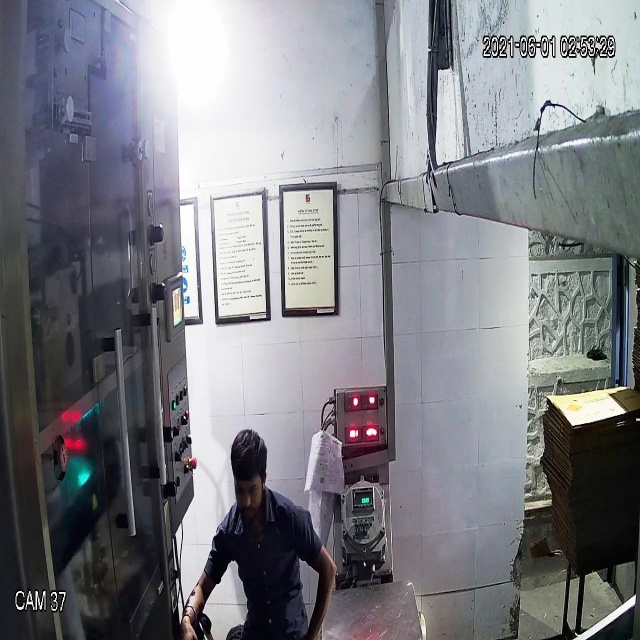Sin_gafas: (231, 473, 266, 503)
